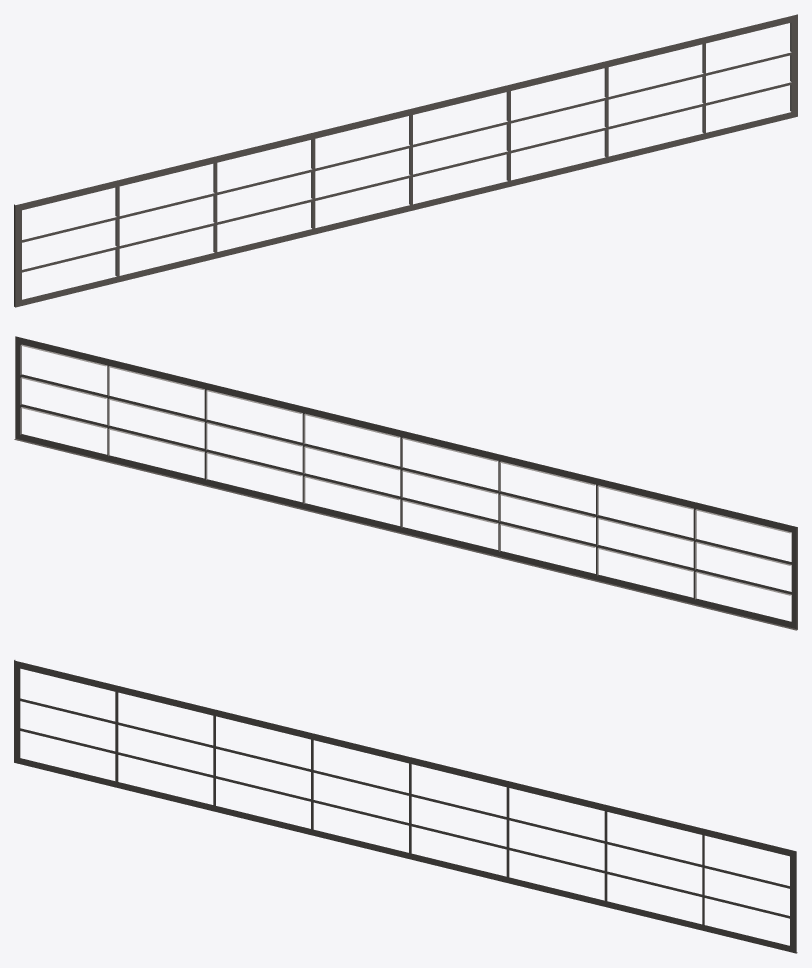
The model's file is FENETRE.FBX.
3 renders of one model, top to bottom at view 1: azimuth 30°, elevation 25°; view 2: azimuth 150°, elevation 25°; view 3: azimuth 330°, elevation 25°, orthographic.
Parts seen in each view (by area): view 1: Fenetre004; view 2: Fenetre004; view 3: Fenetre004.
Part boxes in pixels (box(x1,y1,x2,y2)): Fenetre004: box(14, 14, 797, 307); Fenetre004: box(14, 336, 797, 630); Fenetre004: box(14, 660, 797, 953).
Bounding box in the file's own units: 1052 × 131 × 3.48.
1 material, 1 textured.
